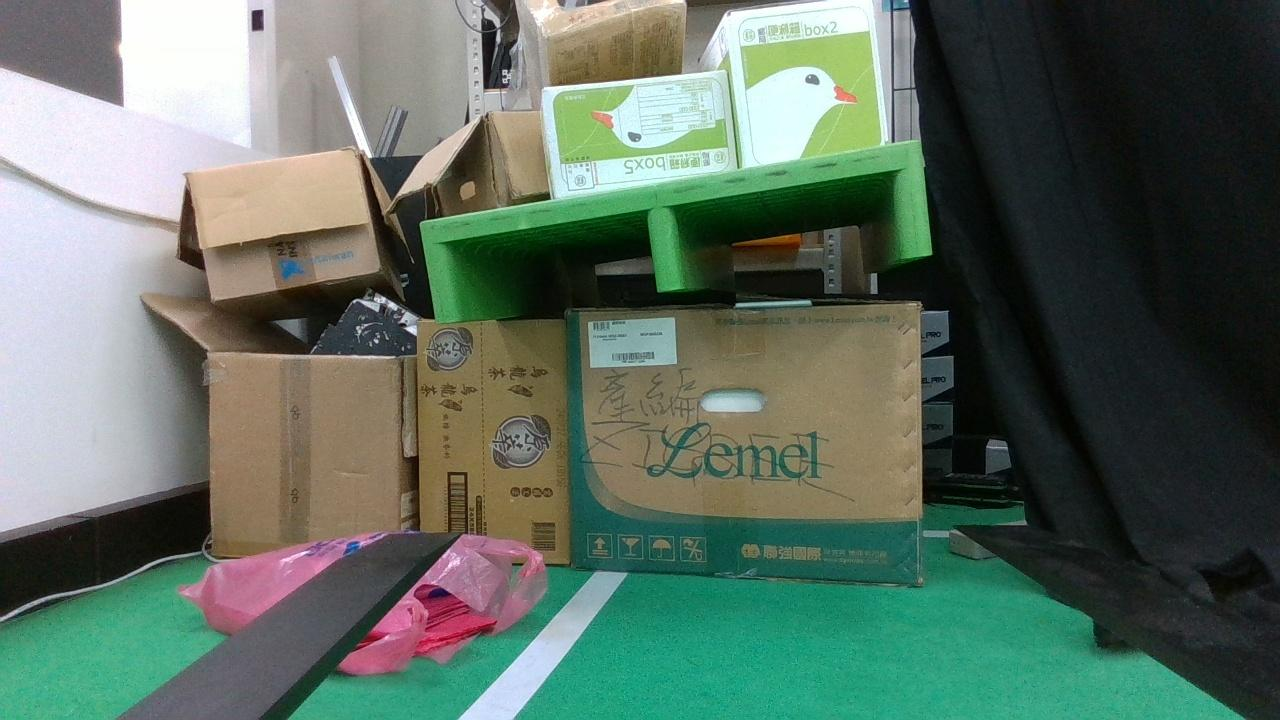Pallet: (420, 146, 931, 319)
